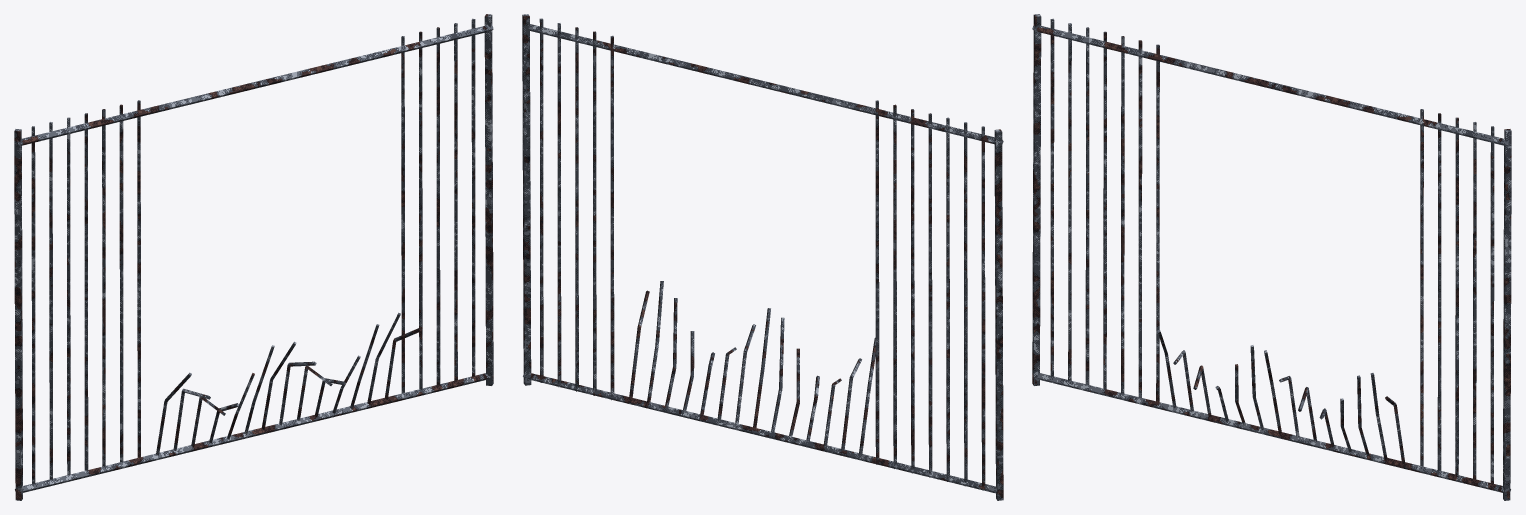
File: SM_Env_CellBarsTorn_4m.glb
3 views of the same model, side by side, from view 1: azimuth 30°, elevation 25°; view 2: azimuth 150°, elevation 25°; view 3: azimuth 330°, elevation 25° (orthographic).
Parts seen in each view (by area): view 1: iron_cross_1, iron_cross_0, iron_frame_1, iron_frame_-1, iron_bar_5_0, iron_bar_0_0, iron_bar_25_0, iron_bar_23_0, iron_bar_3_0, iron_bar_2_0, iron_bar_4_0, iron_bar_24_0 (+4 smaller); view 2: iron_cross_0, iron_cross_1, iron_frame_-1, iron_frame_1, iron_bar_6_0, iron_bar_3_0, iron_bar_0_0, iron_bar_21_0, iron_bar_24_0, iron_bar_25_0, iron_bar_22_0, iron_bar_23_0 (+4 smaller); view 3: iron_cross_1, iron_cross_0, iron_frame_-1, iron_frame_1, iron_bar_25_0, iron_bar_5_0, iron_bar_0_0, iron_bar_2_0, iron_bar_22_0, iron_bar_1_0, iron_bar_3_0, iron_bar_21_0 (+4 smaller).
Boxes of the visible parts, box(x1,y1,x2,y2) form: iron_cross_1: box(16, 24, 493, 146); iron_cross_0: box(15, 373, 493, 492); iron_frame_1: box(484, 14, 493, 385); iron_frame_-1: box(14, 129, 22, 500); iron_bar_5_0: box(119, 104, 123, 462); iron_bar_0_0: box(31, 126, 35, 483); iron_bar_25_0: box(471, 18, 475, 376); iron_bar_23_0: box(436, 27, 440, 385); iron_bar_3_0: box(84, 113, 88, 471); iron_bar_2_0: box(67, 117, 70, 475); iron_bar_4_0: box(102, 109, 105, 466); iron_bar_24_0: box(454, 23, 457, 380); iron_cross_0: box(523, 373, 1001, 493); iron_cross_1: box(527, 24, 1003, 144); iron_frame_-1: box(994, 129, 1003, 500); iron_frame_1: box(522, 14, 531, 385); iron_bar_6_0: box(875, 100, 879, 464); iron_bar_3_0: box(928, 113, 932, 477); iron_bar_0_0: box(981, 126, 985, 490); iron_bar_21_0: box(610, 35, 614, 400); iron_bar_24_0: box(557, 23, 561, 387); iron_bar_25_0: box(539, 18, 543, 382); iron_bar_22_0: box(593, 31, 596, 395); iron_bar_23_0: box(575, 27, 578, 391); iron_cross_1: box(1032, 24, 1509, 146); iron_cross_0: box(1032, 373, 1510, 492); iron_frame_-1: box(1032, 14, 1041, 385); iron_frame_1: box(1503, 129, 1511, 500); iron_bar_25_0: box(1490, 126, 1494, 483); iron_bar_5_0: box(1138, 40, 1142, 397); iron_bar_0_0: box(1050, 18, 1054, 376); iron_bar_2_0: box(1085, 27, 1089, 385); iron_bar_22_0: box(1437, 113, 1441, 471); iron_bar_1_0: box(1068, 23, 1071, 380); iron_bar_3_0: box(1103, 31, 1106, 389); iron_bar_21_0: box(1420, 109, 1423, 466).
Size of the model in its own units: 4.02 by 2.96 by 0.4314.
Materials: 1 (1 with a texture image).
